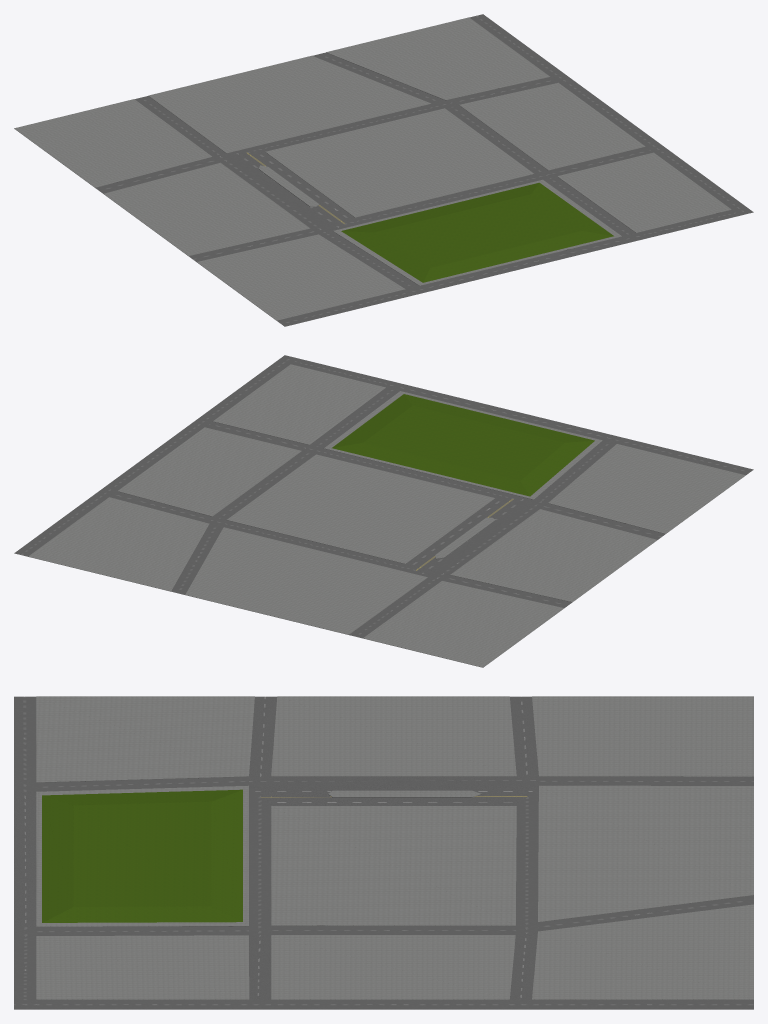
The model's file is ground4.FBX.
The picture shows the model from 3 angles, top to bottom: view 1: azimuth 30°, elevation 25°; view 2: azimuth 150°, elevation 25°; view 3: azimuth 270°, elevation 25°; orthographic projection. The views are drawn at different scales.
Visible parts, largest first — view 1: ground4_LOD0; view 2: ground4_LOD0; view 3: ground4_LOD0.
Boxes of the visible parts, x1=… form: ground4_LOD0: x1=14, y1=14, x2=753, y2=326; ground4_LOD0: x1=14, y1=355, x2=753, y2=667; ground4_LOD0: x1=14, y1=696, x2=753, y2=1009.
Size of what is drawn, in the model's own units: 200 by 0.833 by 200.
